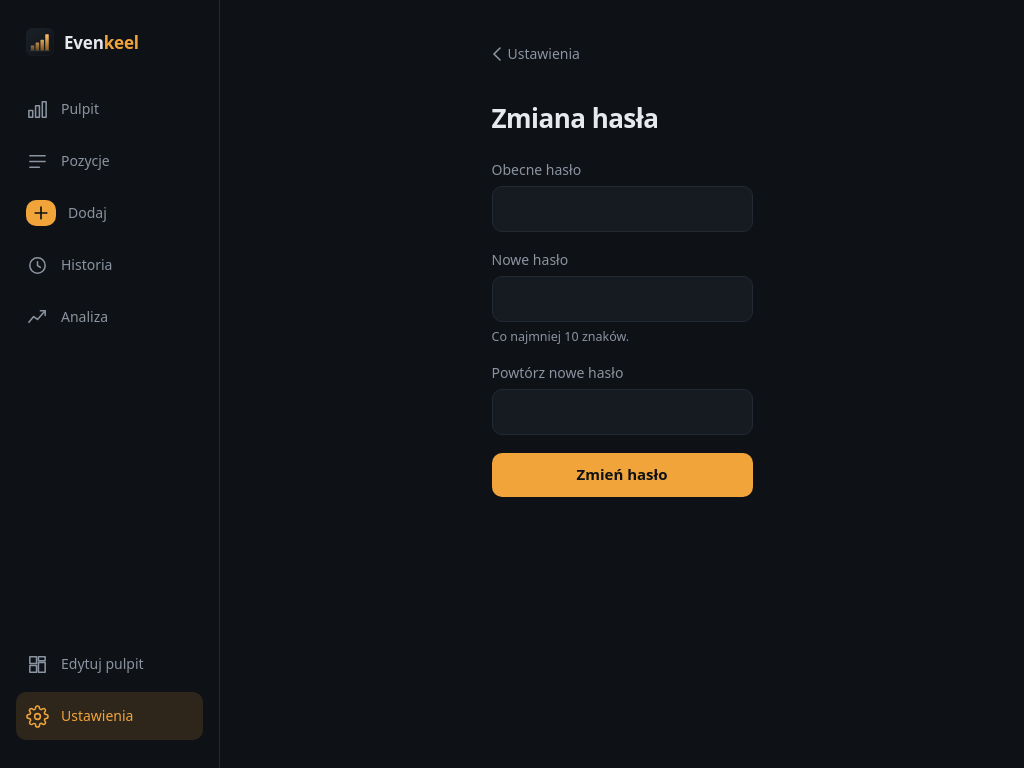
Test: password change › checks the new password before asking the API
This screenshot has width=1024, height=768.
Type "bardzo-tajne-haslo" into the password field labelled "Obecne hasło". click: (622, 209)
box: top-left (492, 186), bottom-right (752, 232)
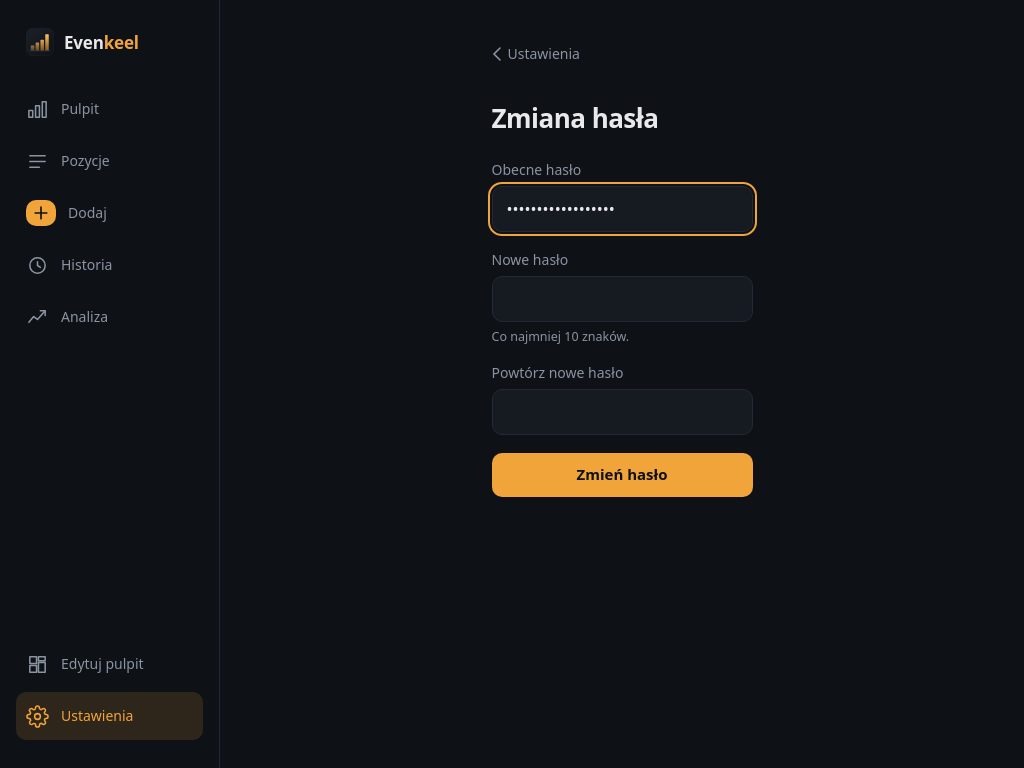
Type "krotkie" into the password field labelled "Nowe hasło". click: (622, 299)
box: top-left (492, 276), bottom-right (752, 322)
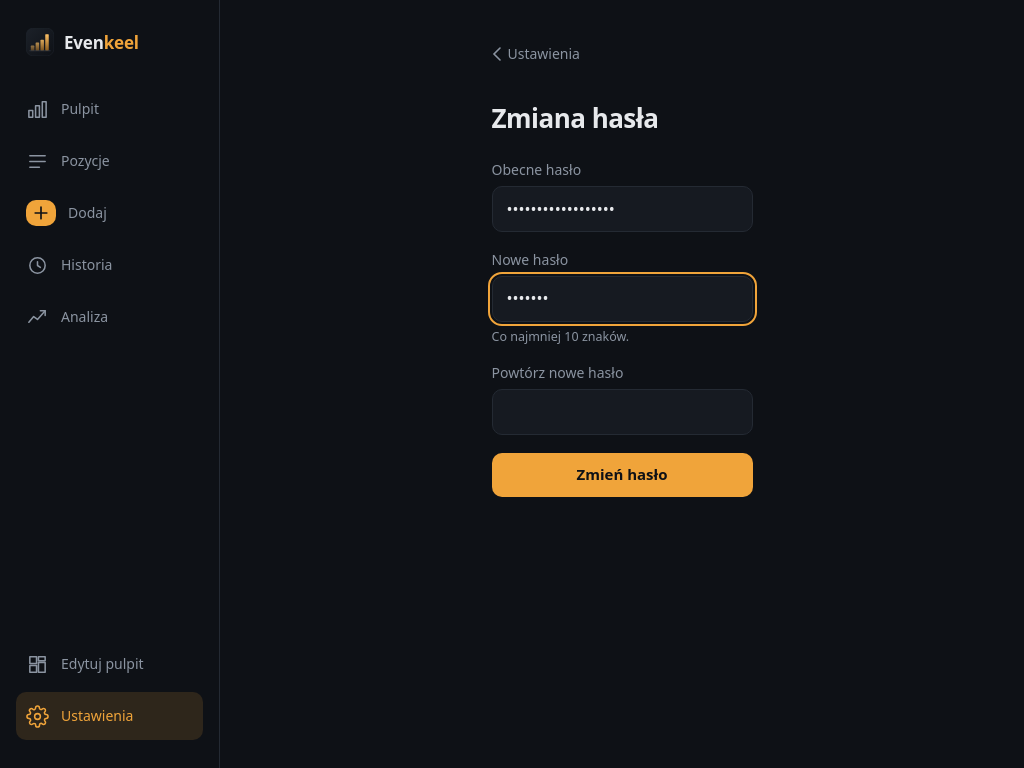
Type "inne" into the password field labelled "Powtórz nowe hasło". click: (622, 412)
box: top-left (492, 389), bottom-right (752, 435)
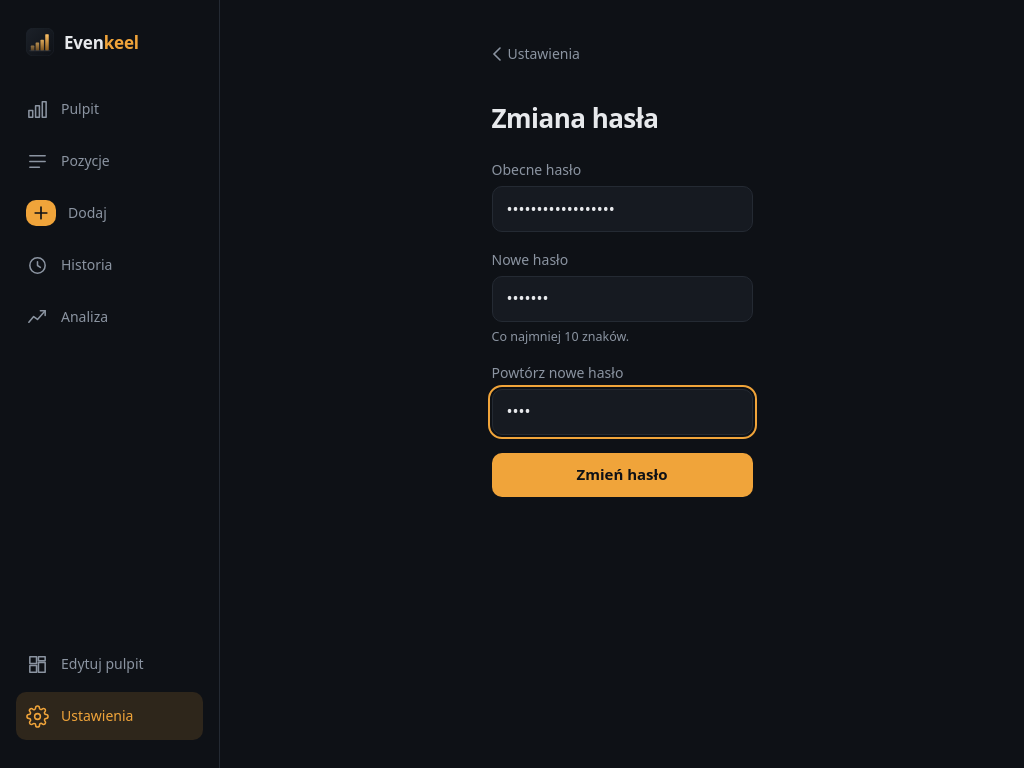
Click the button "Zmień hasło". click: (622, 475)
box: top-left (492, 453), bottom-right (752, 497)
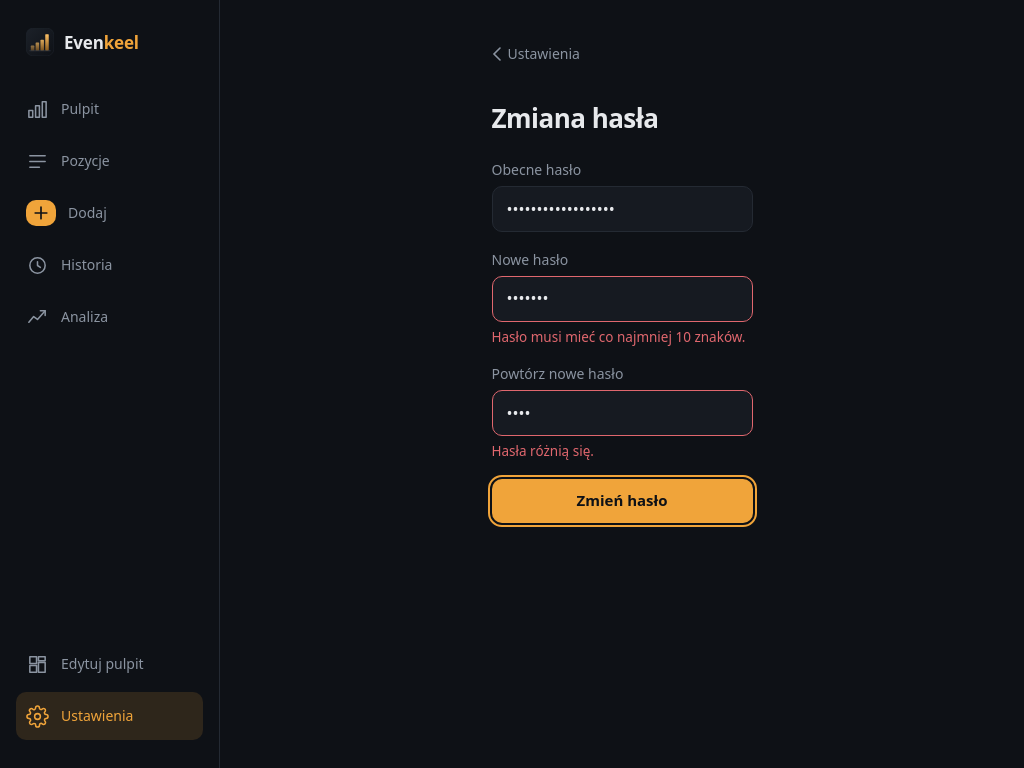
expect the text "Hasło musi mieć co najmniej 10 znaków." is shown: met, box top-left (492, 328), bottom-right (752, 346)
expect the text "Hasła różnią się." is shown: met, box top-left (492, 442), bottom-right (594, 460)
